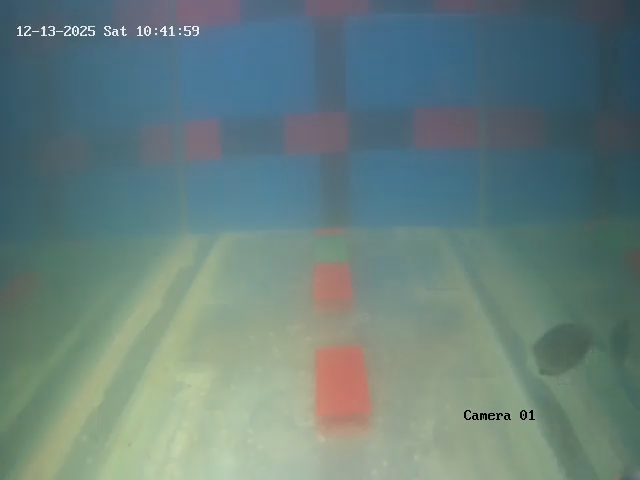fish: (535, 319, 593, 381)
